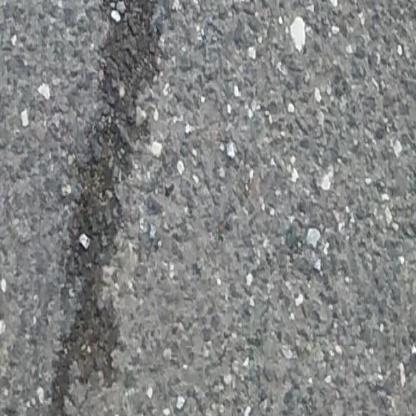Cracks: (51, 0, 163, 416)
